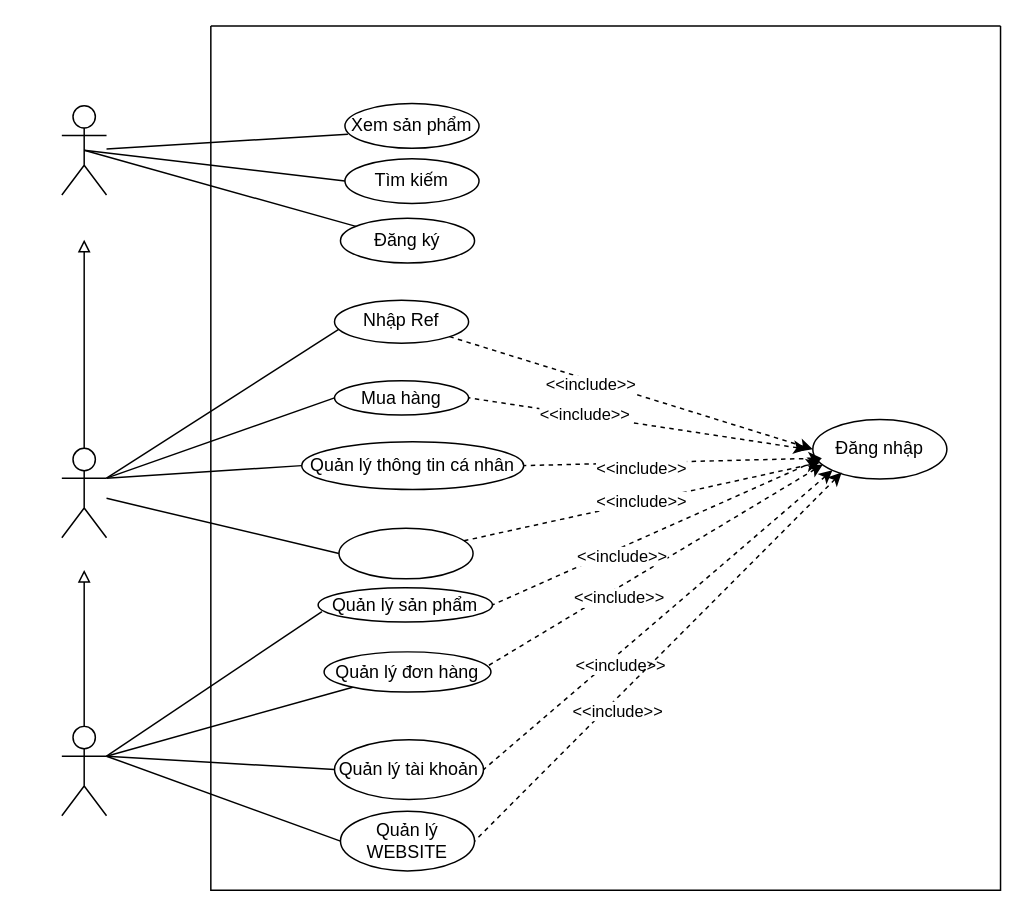
Image size: 1027x916. Some labels were removed from this diagram. Here are the shapes that lost their labels. From the top down, the box of each, then its label:
(60, 104, 107, 195): Khách vãng lai
(60, 447, 107, 538): Khách hàng
(337, 527, 473, 579): Quản lý giỏ hàng
(60, 725, 107, 816): Admin
